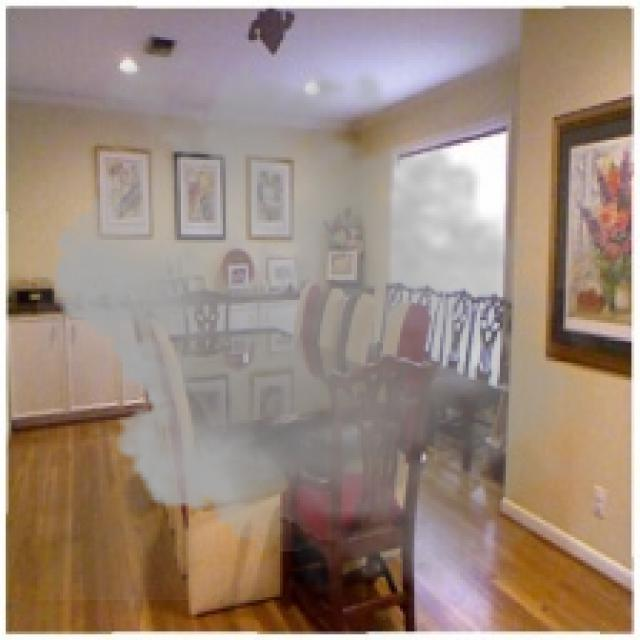smoke: (37, 31, 606, 600)
